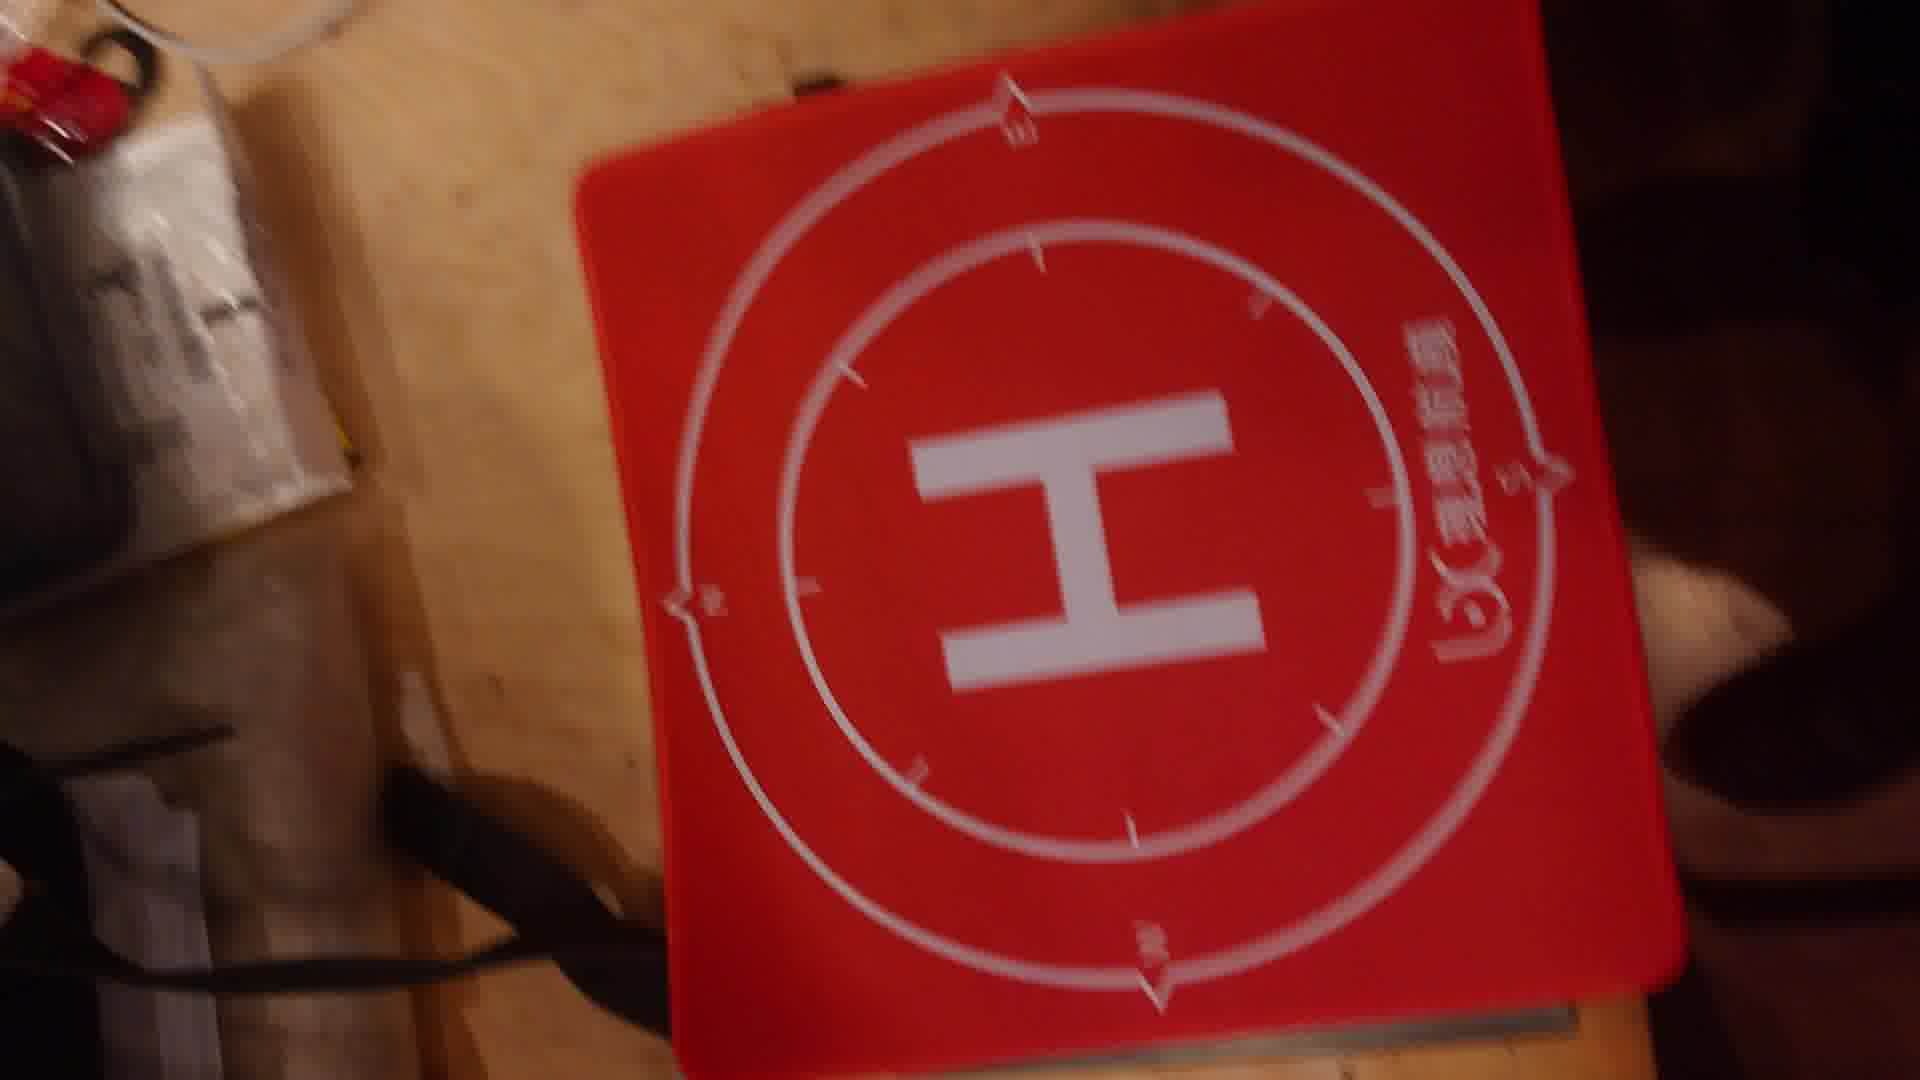H: (909, 384, 1273, 699)
